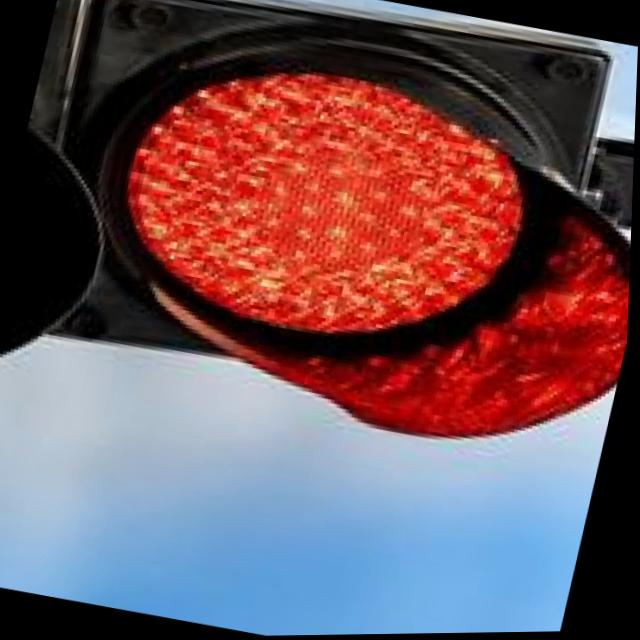red_light: (96, 0, 640, 518)
